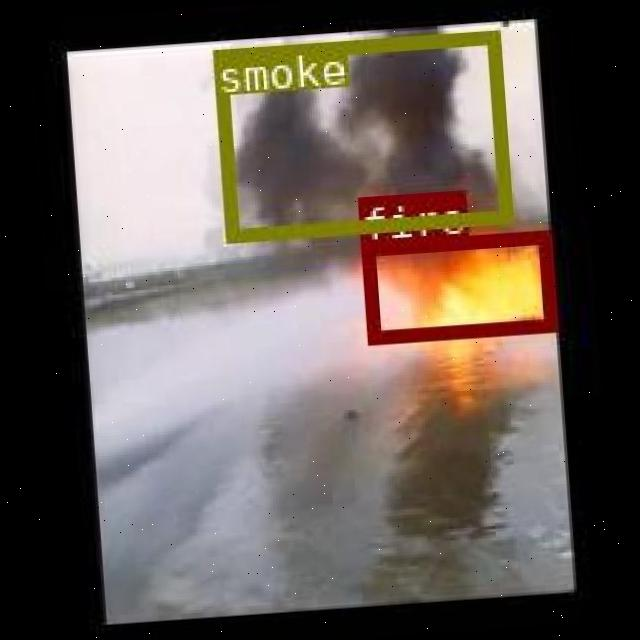fire: (358, 228, 554, 342)
smoke: (210, 27, 510, 239)
